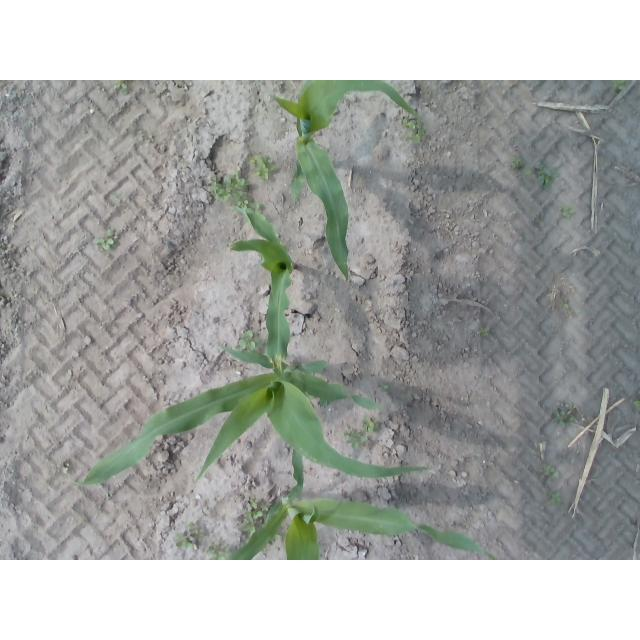Maize: (82, 344, 430, 485), (230, 448, 497, 561), (274, 80, 418, 285), (233, 211, 299, 361)
Weeds: (209, 178, 253, 211), (250, 156, 275, 181), (536, 168, 560, 188), (178, 526, 202, 546), (347, 431, 370, 451), (237, 330, 256, 350), (209, 542, 231, 559), (95, 231, 114, 249), (240, 519, 256, 534), (410, 130, 428, 143), (561, 203, 576, 218), (251, 504, 265, 520), (362, 418, 380, 430), (549, 491, 564, 505), (611, 81, 626, 93), (538, 465, 556, 475), (404, 119, 420, 130), (117, 81, 130, 92), (513, 157, 526, 167), (62, 460, 71, 474), (476, 330, 488, 337)
